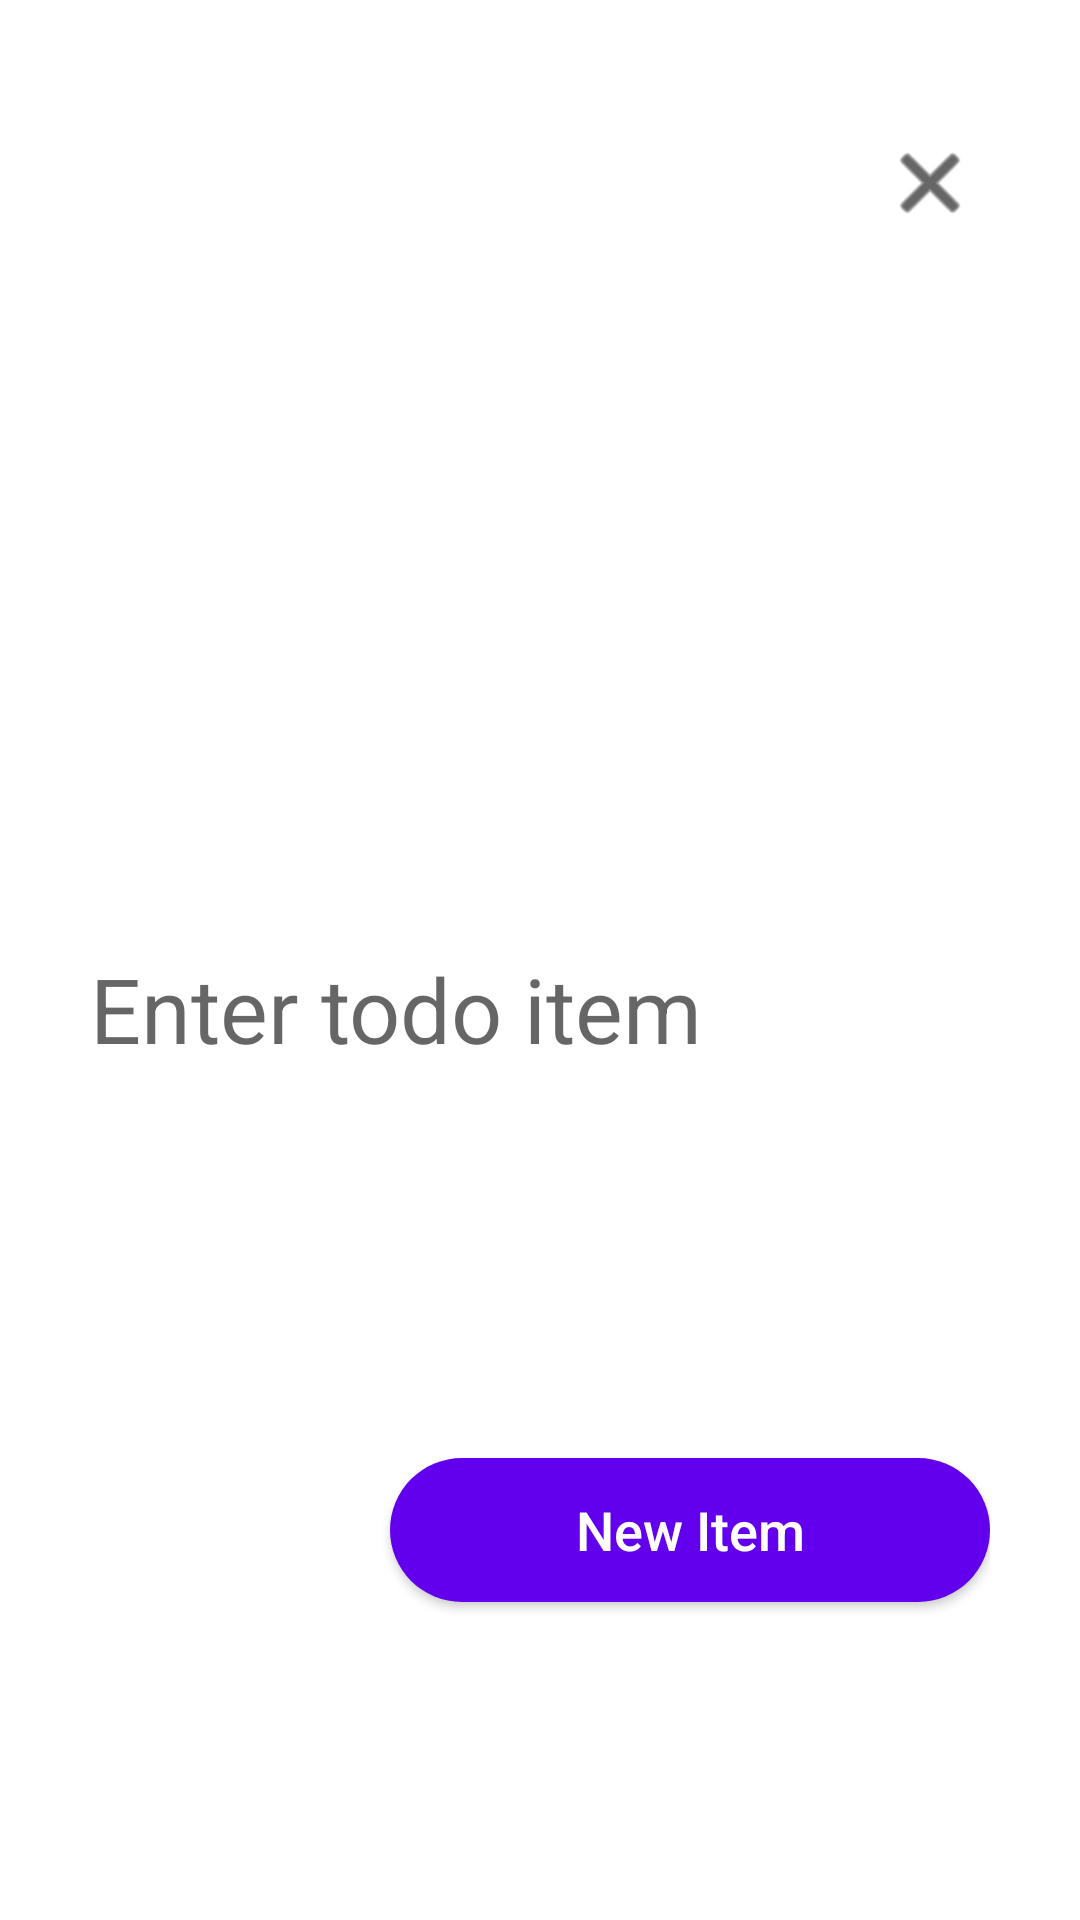

Screen size 1080px x 1920px. Icon name, then its box in pixels as [left=x1, top=y1, right=x2, bottom=y2]:
close clear cancel: [left=900, top=153, right=960, bottom=213]
